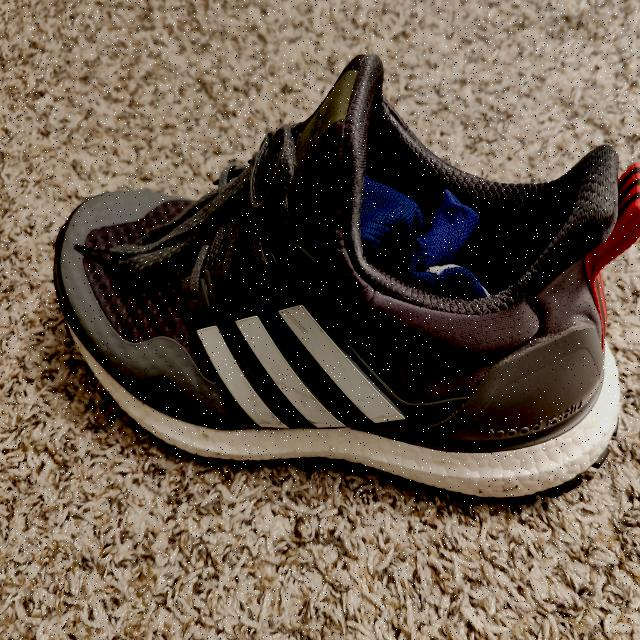black shoes: (68, 54, 640, 496)
